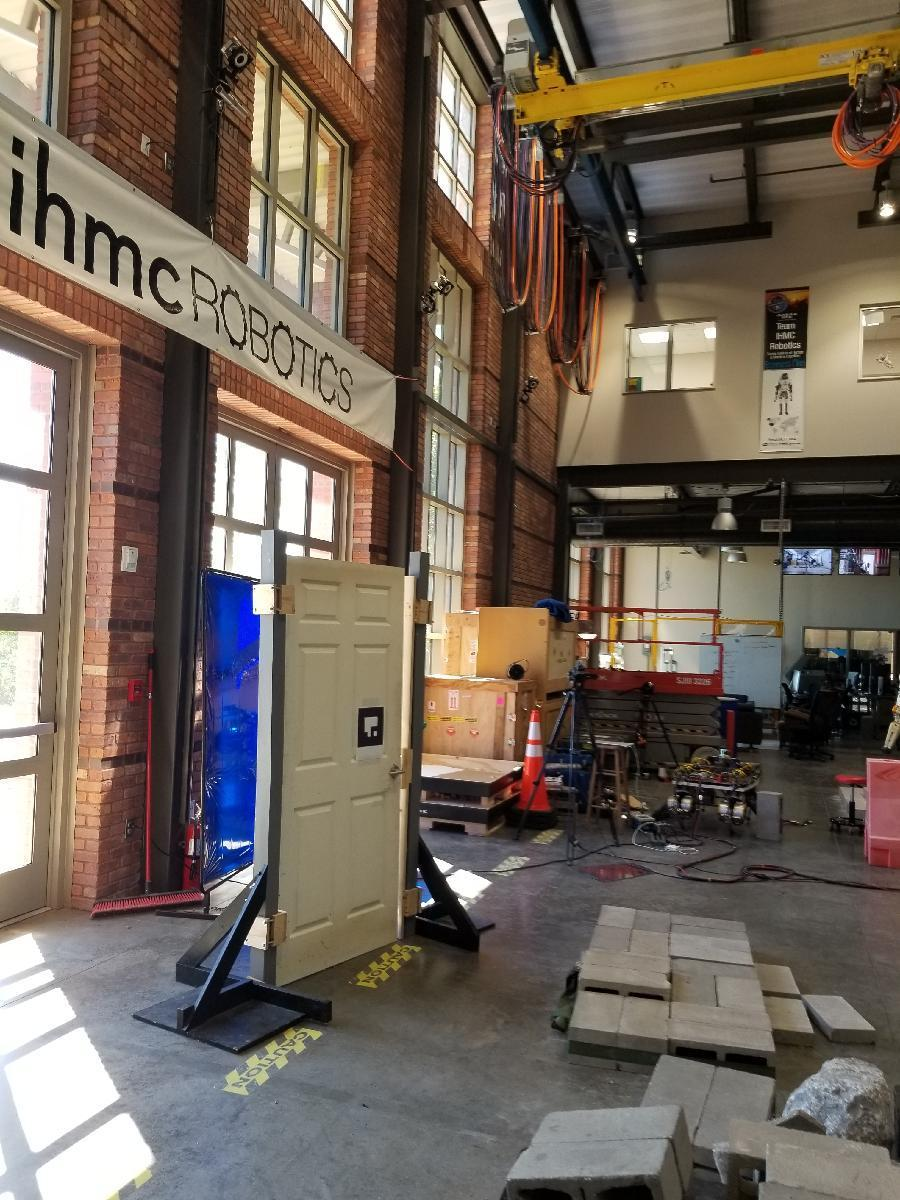door: (294, 556, 404, 959)
handle: (388, 764, 406, 780)
